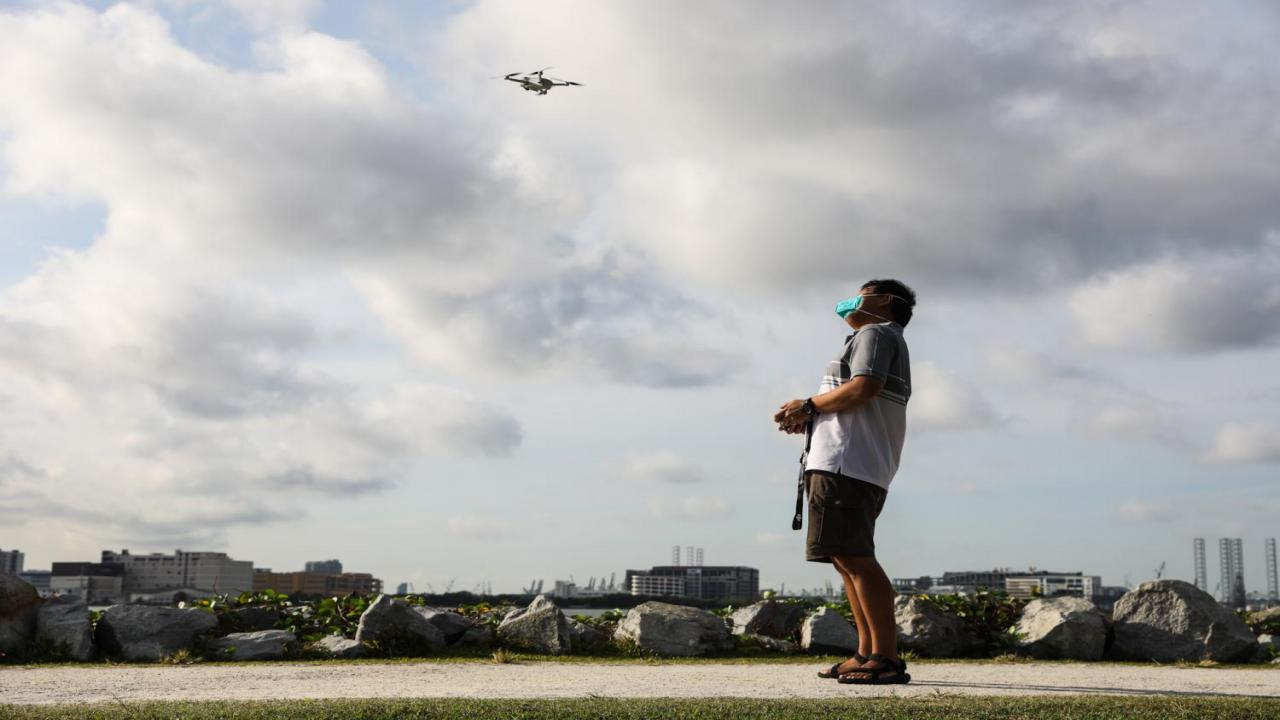Drone: (487, 55, 591, 110)
